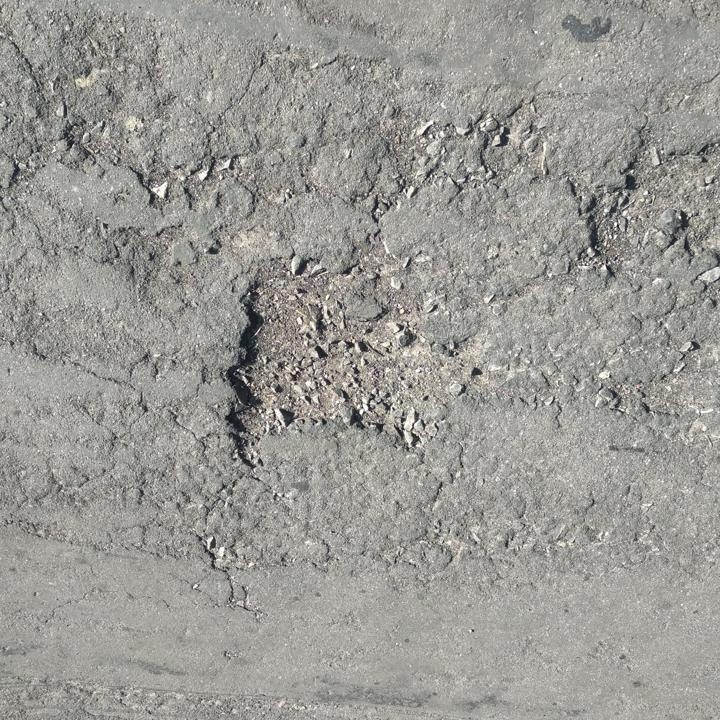pothole: (212, 255, 458, 472), (578, 147, 669, 275)
